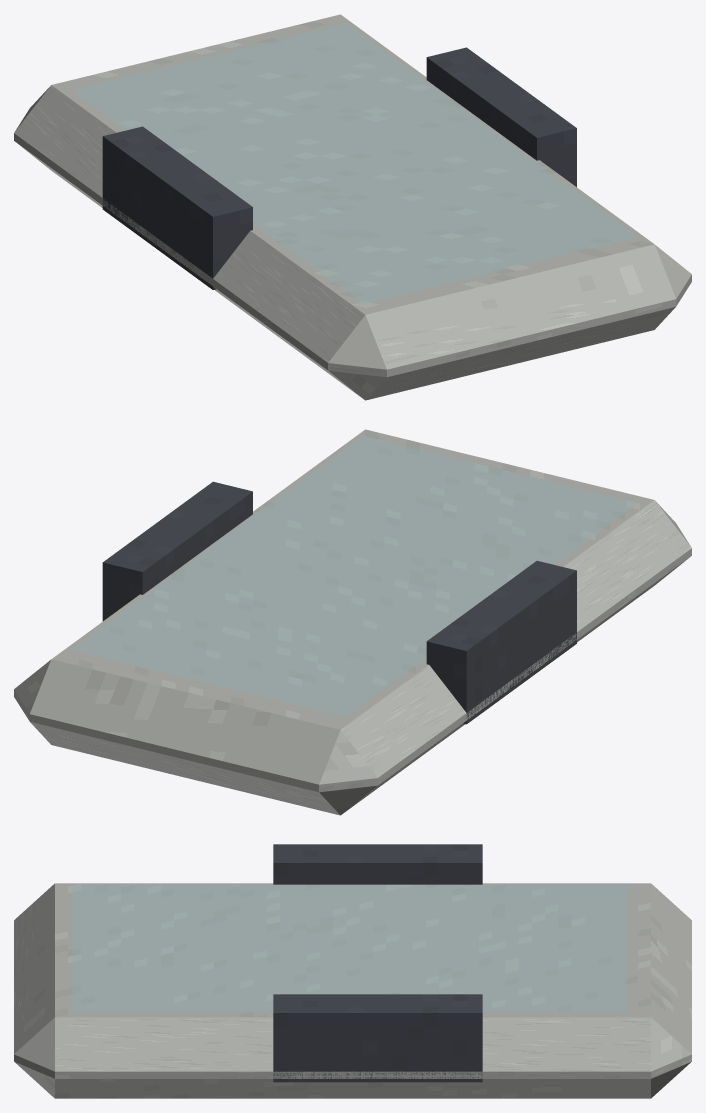
The model's file is waterproof_smart_phone_case.glb.
3 views of the same model, one above another, from view 1: azimuth 30°, elevation 25°; view 2: azimuth 150°, elevation 25°; view 3: azimuth 270°, elevation 25° (orthographic). The views are drawn at different scales.
Visible parts, largest first — view 1: block_case body, block_sealing window, block_rim clamp (×2); view 2: block_case body, block_sealing window, block_rim clamp (×2); view 3: block_case body, block_sealing window, block_rim clamp (×2).
Boxes of the visible parts, bbox=[...] form: block_case body: bbox=[14, 14, 691, 400]; block_sealing window: bbox=[71, 23, 636, 303]; block_rim clamp (×2): bbox=[102, 47, 576, 289]; block_case body: bbox=[14, 429, 691, 815]; block_sealing window: bbox=[71, 436, 637, 716]; block_rim clamp (×2): bbox=[102, 481, 576, 724]; block_case body: bbox=[14, 883, 691, 1098]; block_sealing window: bbox=[72, 885, 627, 1011]; block_rim clamp (×2): bbox=[273, 844, 482, 1082].
Size of the model in its own units: 0.0941 by 0.0268 by 0.16.
2 materials, 2 textured.
